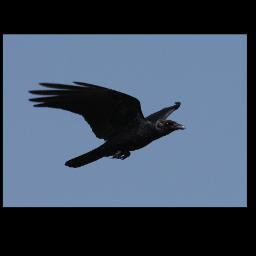Crow: (27, 80, 188, 168)
